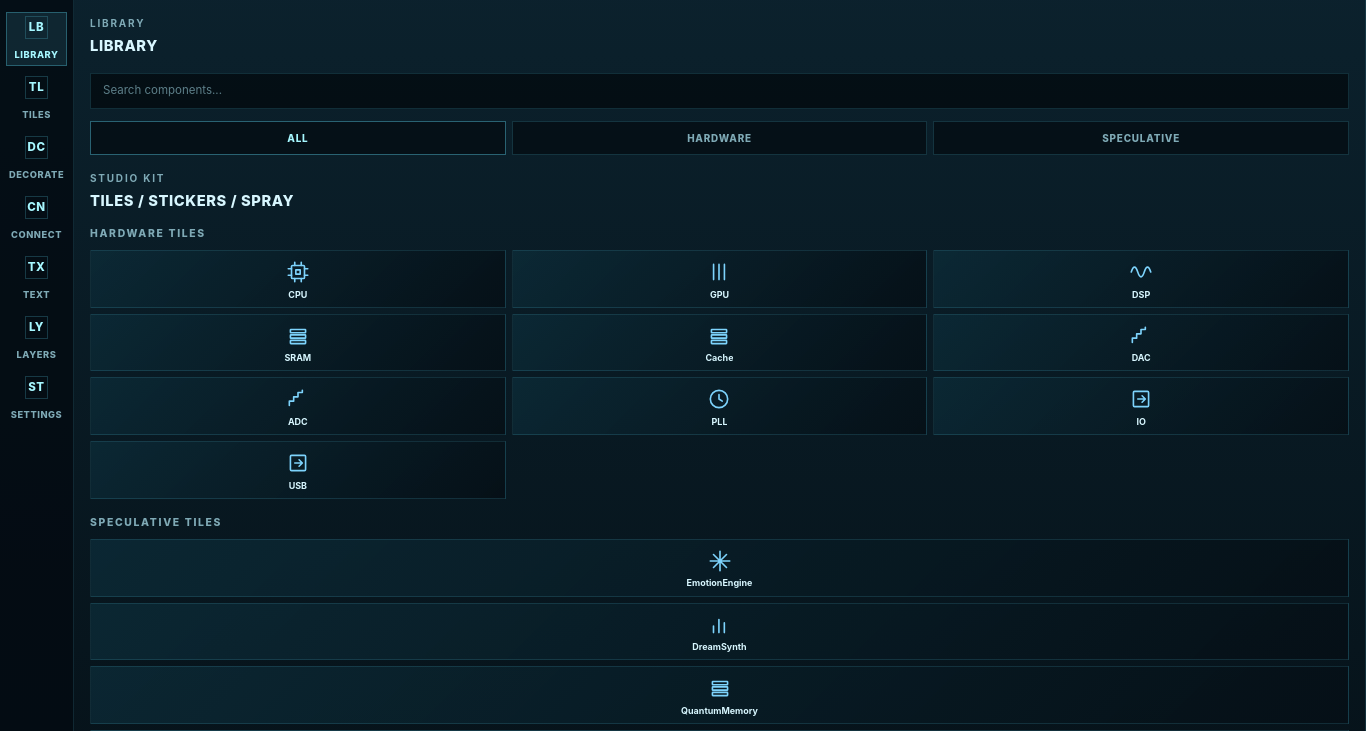
Test: BlockPalette › switches the left rail to mode-specific content and actions
Click the button "DC Decorate". click: (36, 159)
box: [6,132,67,186]
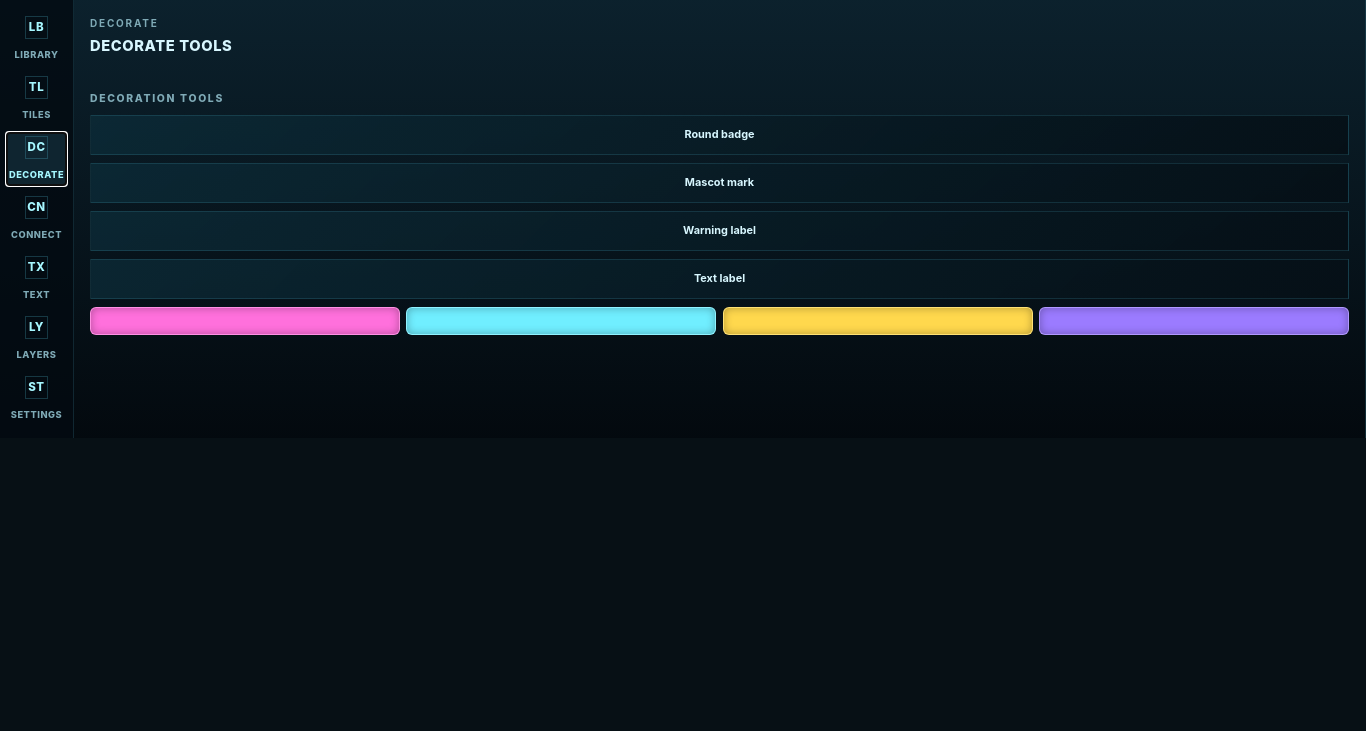
Now the heading "Decoration Tools" is shown, box [90,92,224,105]
Now the heading "Hardware Tiles" is gone
Click the button "CN Connect". click: (36, 219)
box: [6,192,67,246]
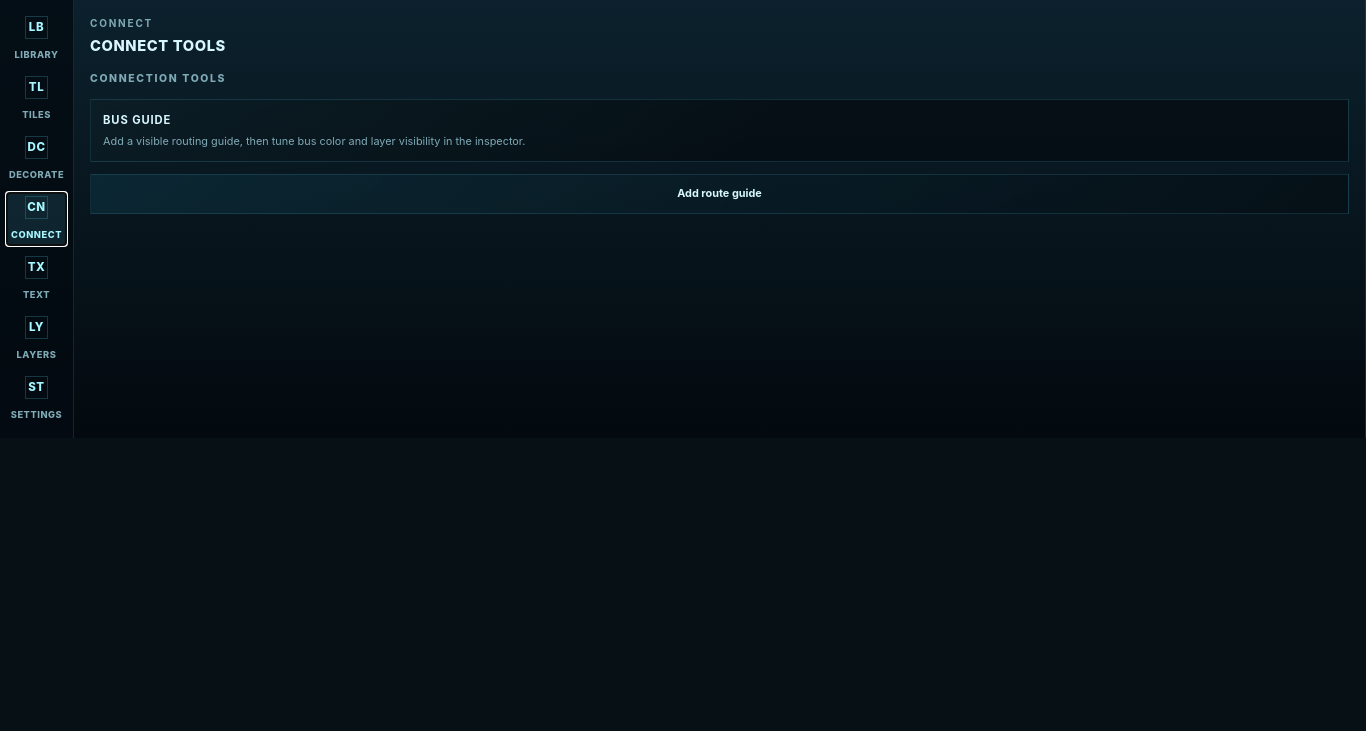
Now the heading "Connection Tools" is shown, box [90,72,226,85]
Click the button "Add route guide". click: (720, 194)
box: [90,174,1349,214]
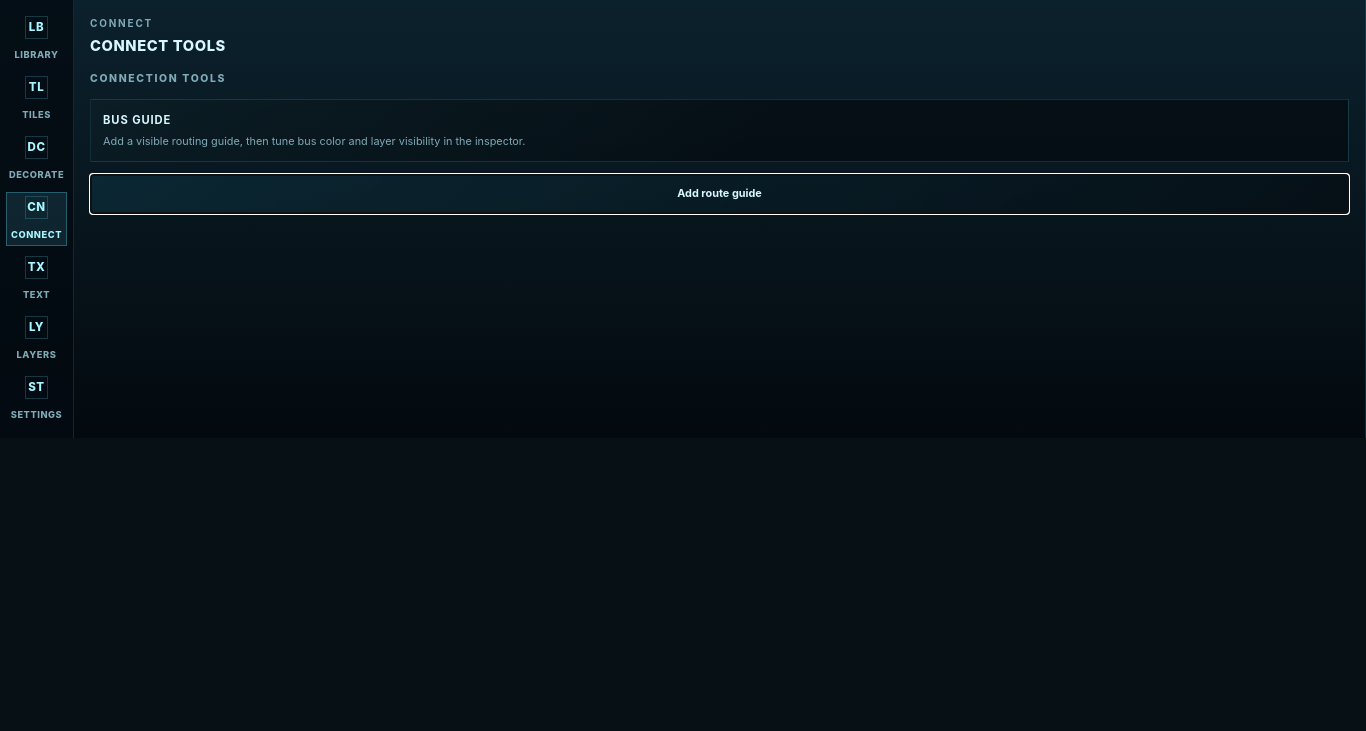
Click the button "TX Text". click: (36, 279)
box: [6,252,67,306]
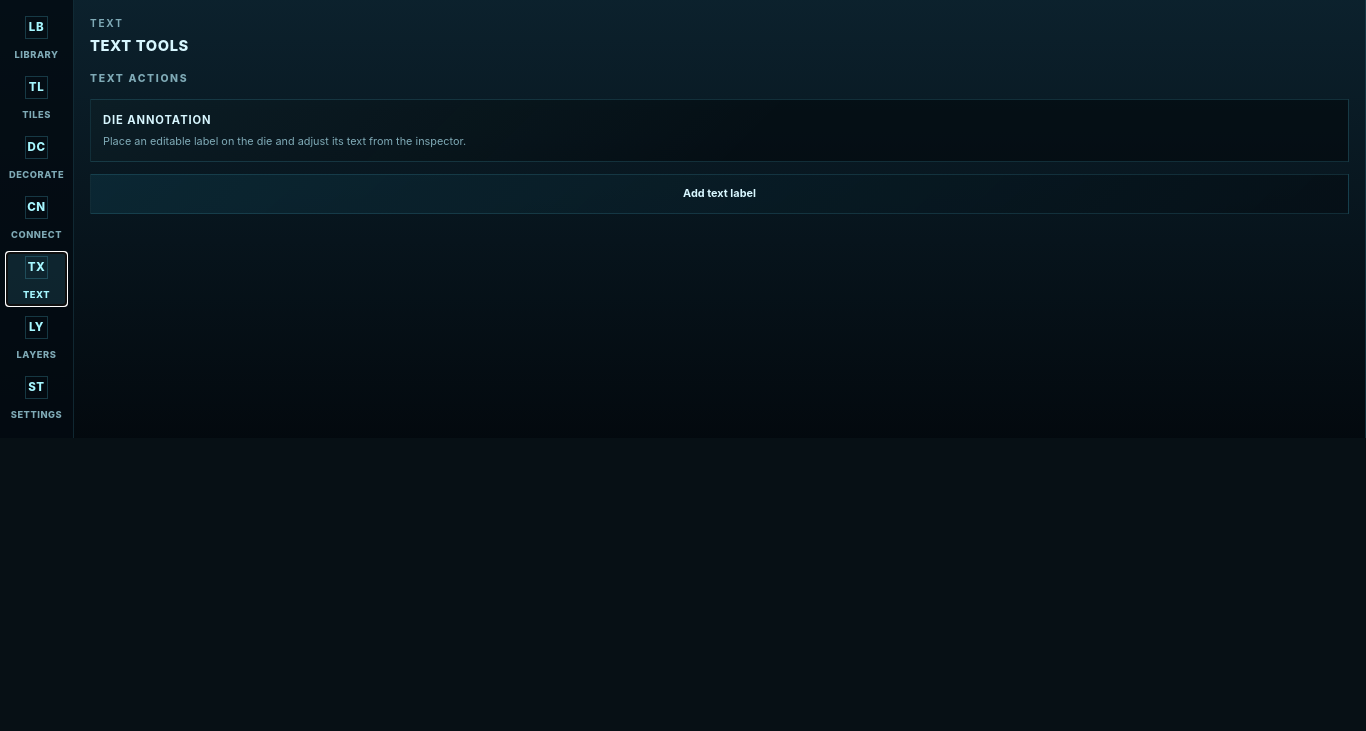
Now the heading "Text Tools" is shown, box [90,37,189,55]
Click the button "Add text label". click: (720, 194)
box: [90,174,1349,214]
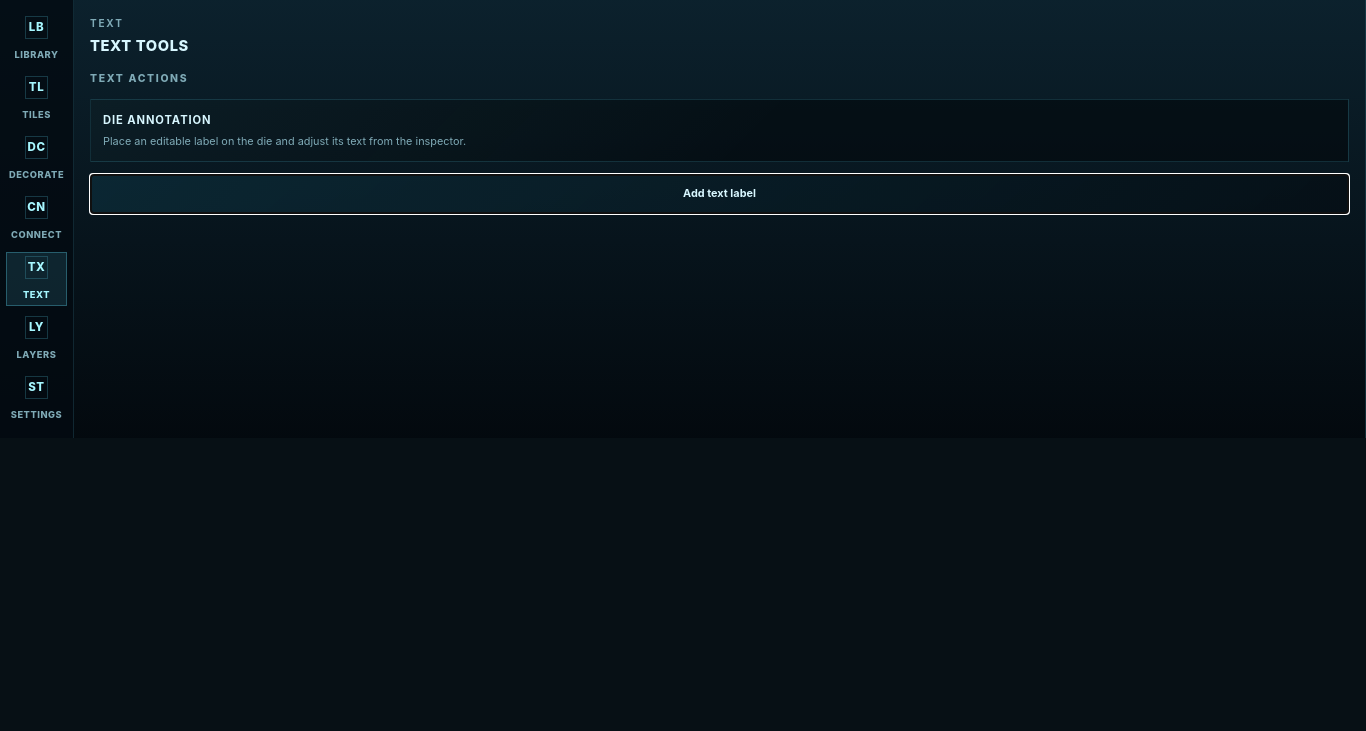
Click the button "LY Layers". click: (36, 339)
box: [6,312,67,366]
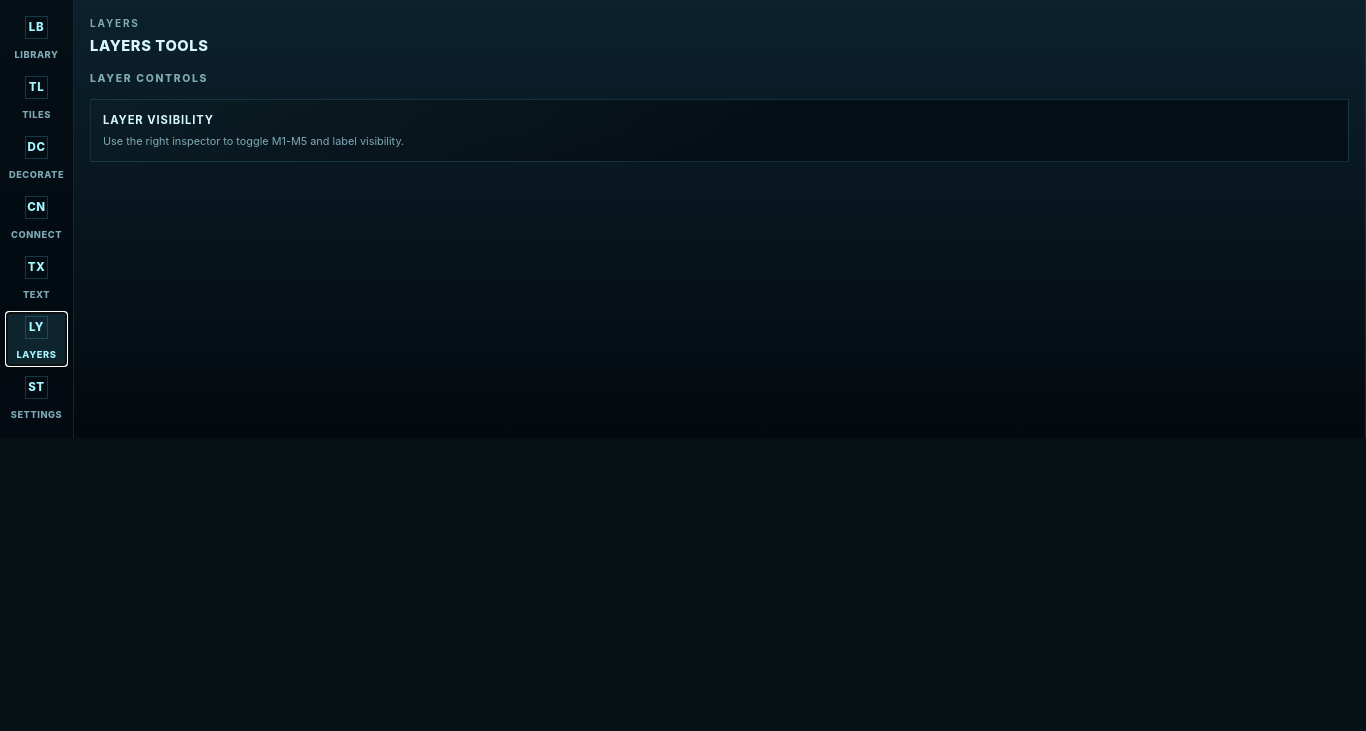
Now the heading "Layer Controls" is shown, box [90,72,208,85]
Now the text "Use the right inspector to toggle M1-M5 and label visibility." is shown, box [103,134,404,148]
